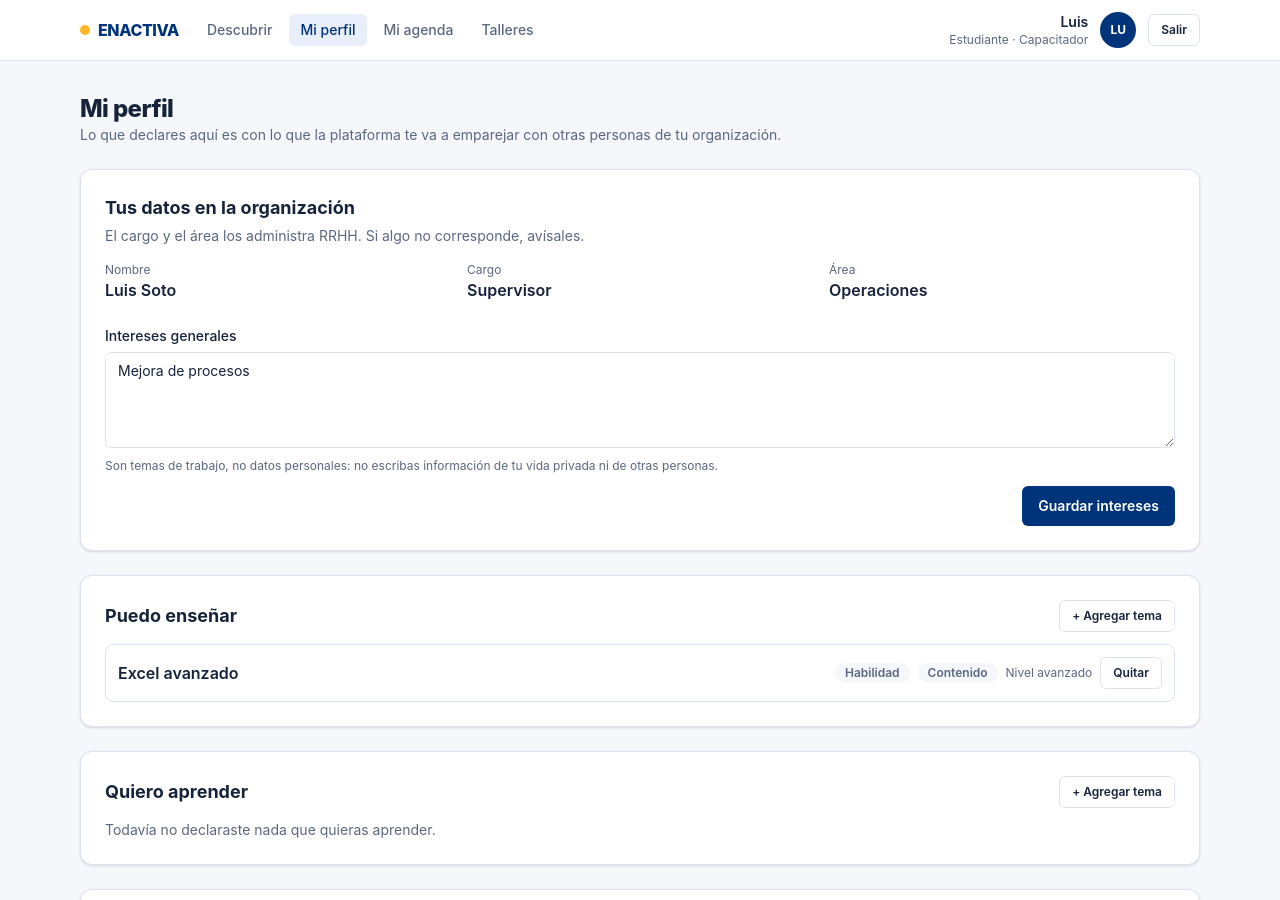
Test case: Mi perfil › no deja declarar un tema sin elegir dimensión
The width and height of the screenshot is (1280, 900).
Click the button "+ Agregar tema" in the row of "Puedo enseñar" at (1117, 616), box [1059,600,1175,632]
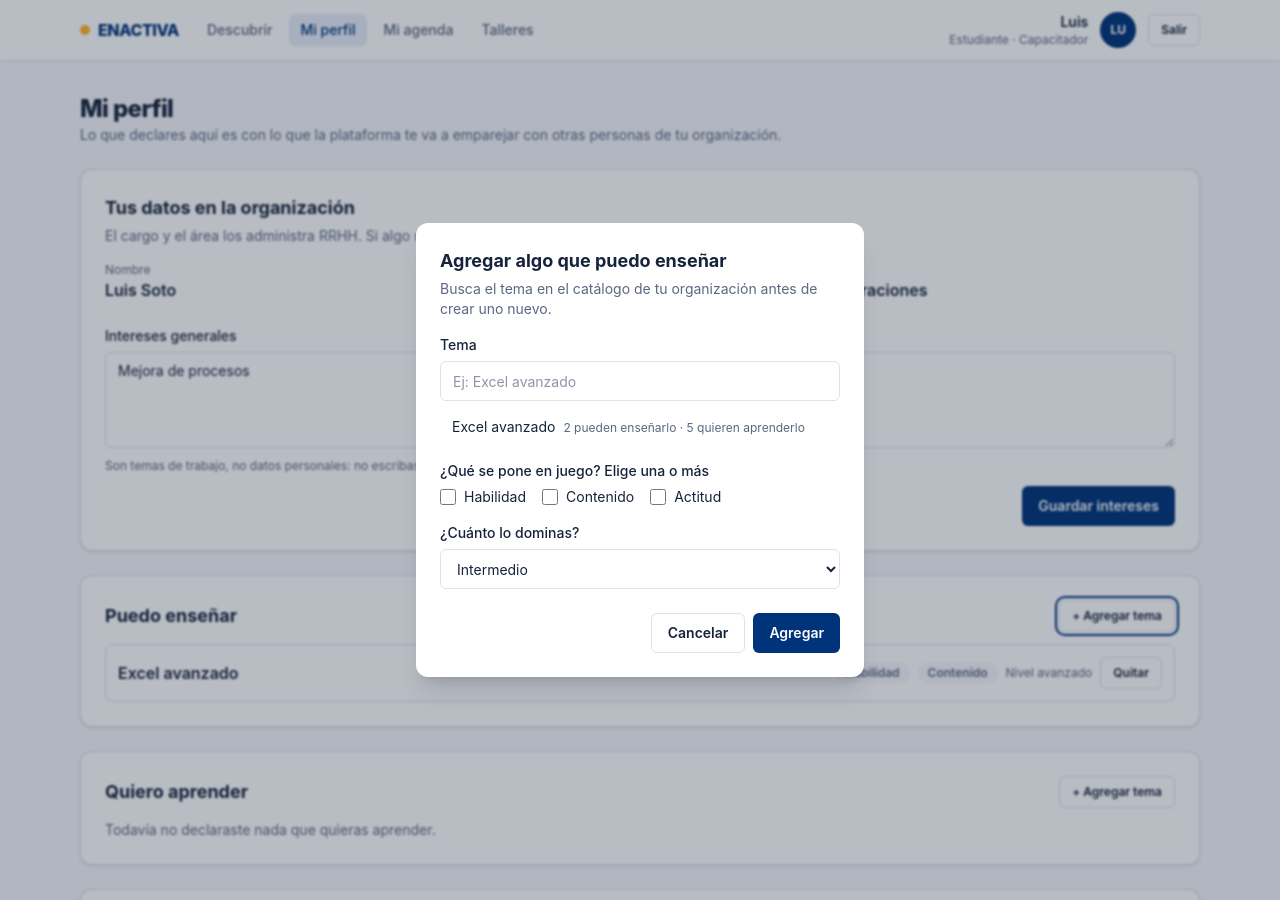
Click the button "Excel avanzado2 pueden enseñarlo · 5 quieren aprenderlo" at (640, 427), box [440,409,840,445]
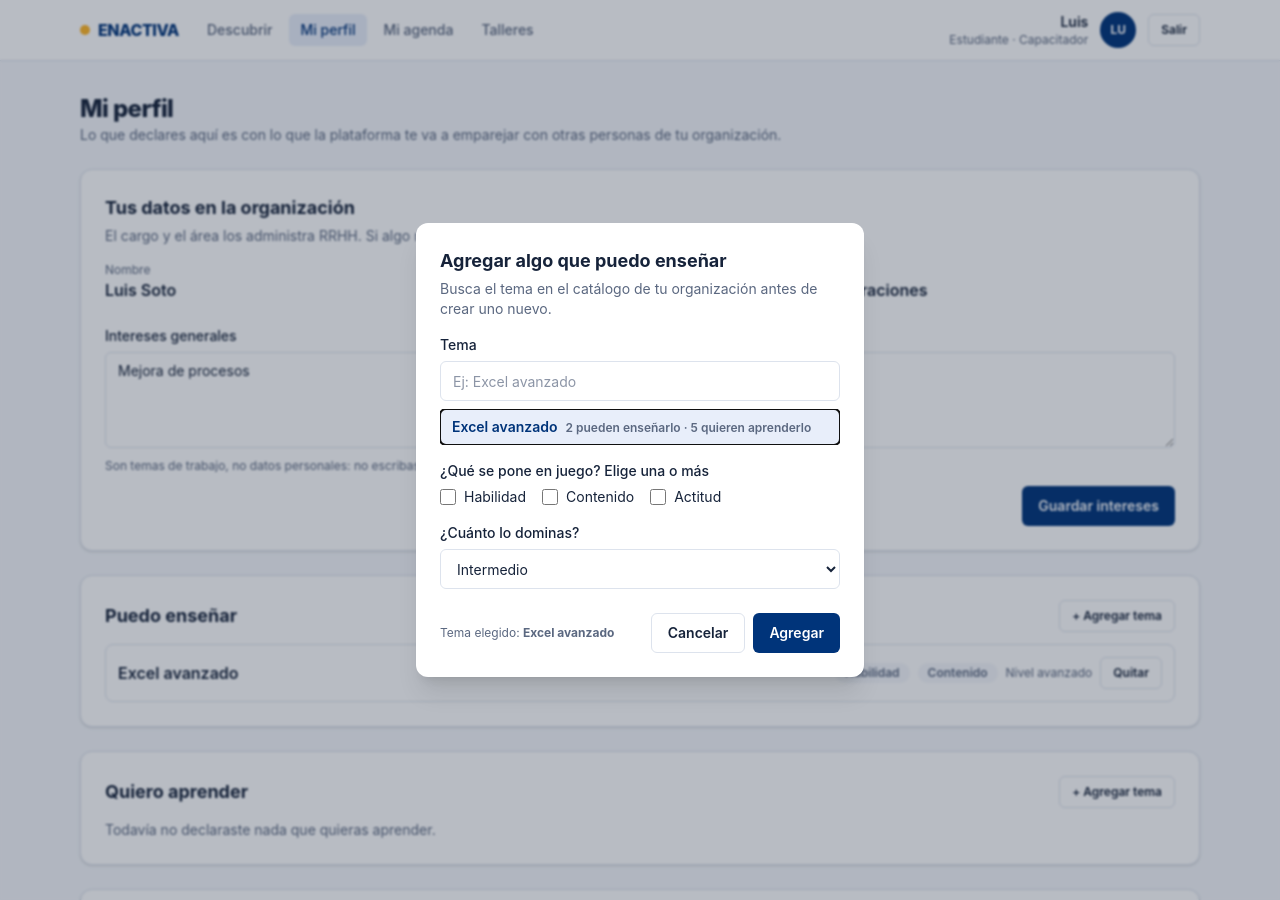
Click the button "Agregar" at (797, 633), box [753,613,840,653]
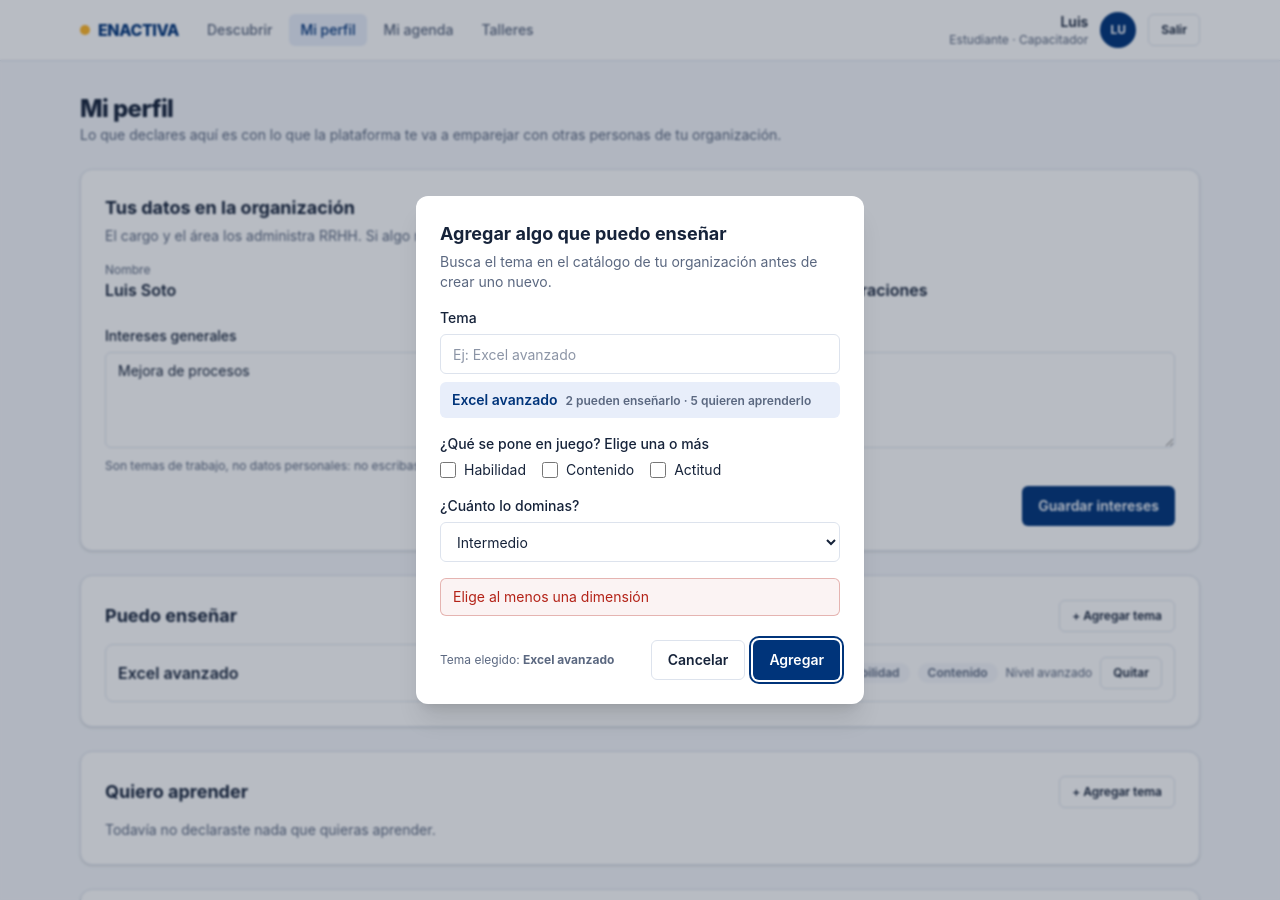
Expected: the text "Elige al menos una dimensión" is shown, [440,578,840,616]
